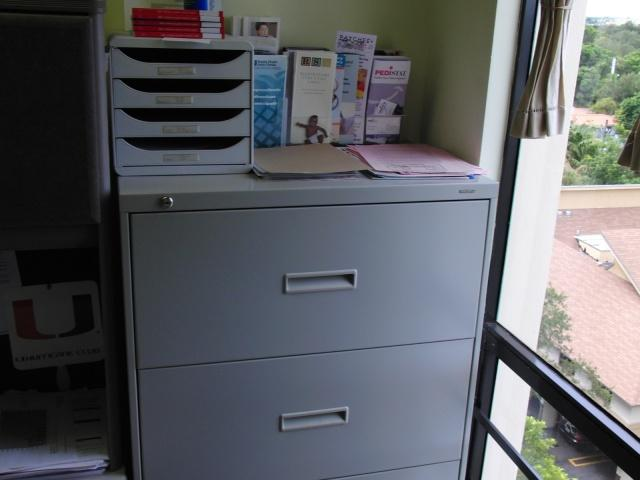Filing Cabinet: (119, 180, 500, 479)
